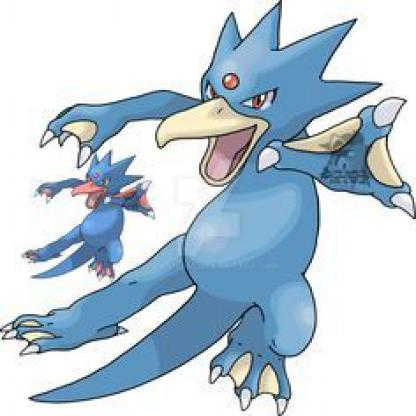Golduck: (22, 6, 415, 415), (23, 159, 148, 279)
